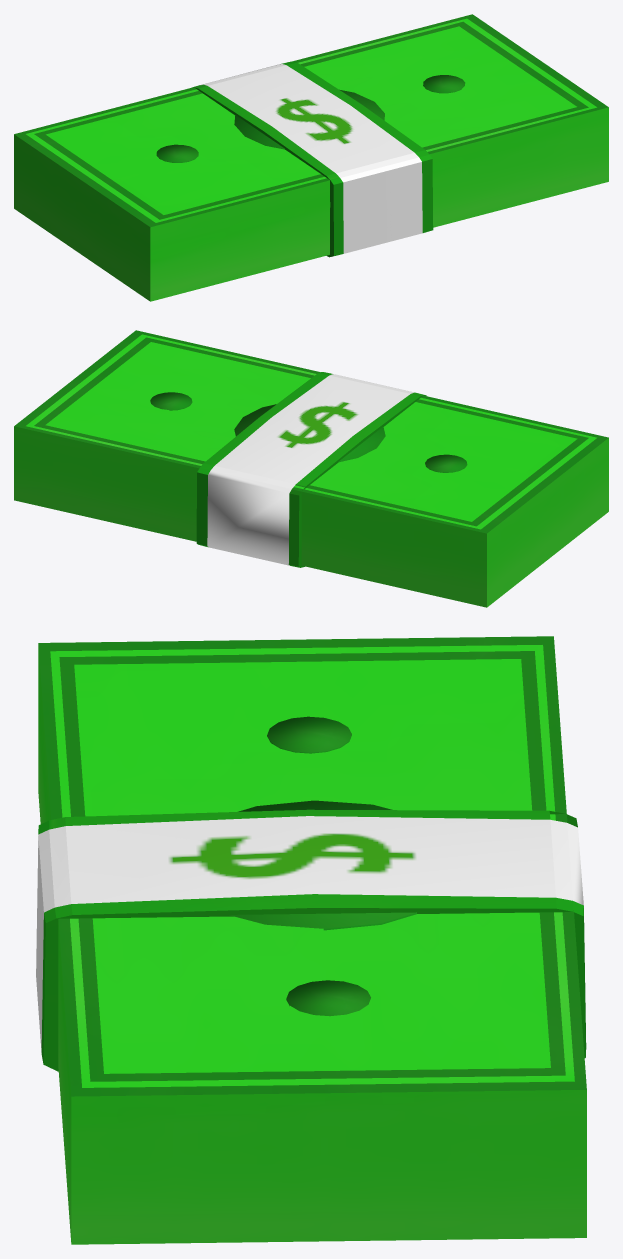
File: Dollar.fbx
The picture shows the model from 3 angles, top to bottom: view 1: azimuth 30°, elevation 25°; view 2: azimuth 150°, elevation 25°; view 3: azimuth 270°, elevation 25°; orthographic projection. The views are drawn at different scales.
Visible parts, largest first — view 1: Dollar Toon; view 2: Dollar Toon; view 3: Dollar Toon.
Boxes of the visible parts, x1=… form: Dollar Toon: x1=14, y1=14, x2=608, y2=301; Dollar Toon: x1=14, y1=330, x2=608, y2=607; Dollar Toon: x1=36, y1=636, x2=586, y2=1244.
Size of the model in its own units: 0.7374 by 0.126 by 0.373.
